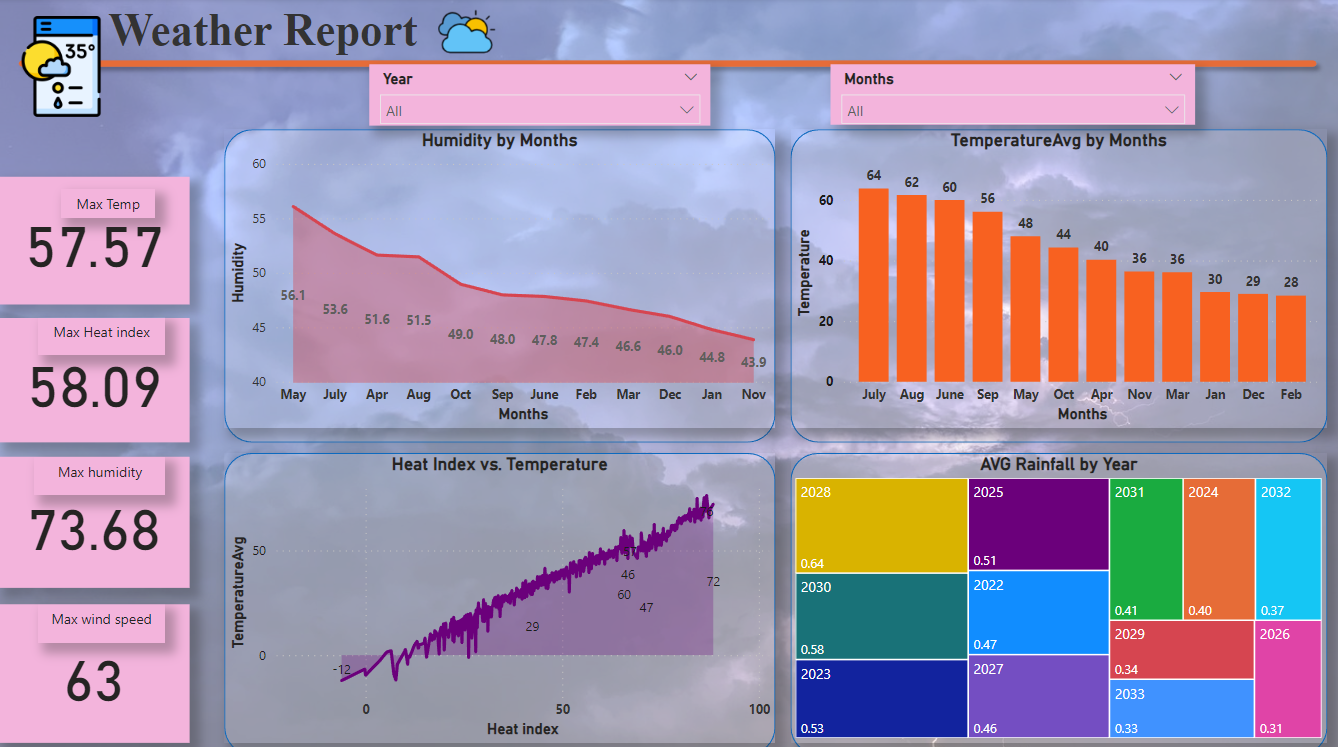

The page's visual inventory and layout, read from the dashboard file:
{"tool":"powerbi","page":{"name":"report 2","canvas":[1280,720],"ordinal":1},"visuals":[{"type":"shape","box":[0,0,1254.3,125],"z":0},{"type":"shape","box":[215.6,125,524.6,298],"z":1000},{"type":"shape","box":[754,125,510.9,298],"z":2000},{"type":"shape","box":[215.6,432.6,524.6,287],"z":3000},{"type":"shape","box":[754,432.6,510.9,287],"z":4000},{"type":"textbox","box":[100.3,1.4,336.5,82.4],"z":5000},{"type":"stackedAreaChart","fields":{"Category":["weatherdata .Months"],"Y":["weatherdata .Humidity"]},"box":[215.6,125,524.6,284.3],"z":6000},{"type":"clusteredColumnChart","title":"TemperatureAvg by Months","fields":{"Category":["weatherdata .Months"],"Y":["Avg(weatherdata . temperatureAvg)"]},"box":[754,125,510.9,284.3],"z":7000},{"type":"stackedAreaChart","title":" Heat Index vs. Temperature","fields":{"Category":["weatherdata .Maximum heat index "],"Y":["Avg(weatherdata . temperatureAvg)"]},"box":[215.6,432.6,524.6,276.1],"z":8000},{"type":"treemap","title":"AVG Rainfall  by Year","fields":{"Values":["weatherdata .Rainfall for month"],"Details":["weatherdata .Year"]},"box":[754,432.6,510.9,276.1],"z":9000},{"type":"image","box":[6.9,5.5,105.8,118.1],"z":12000},{"type":"image","box":[405.2,0,82.4,64.5],"z":13000},{"type":"card","title":"Year","fields":{"Values":["Avg(weatherdata .Maximum temperature )"]},"box":[0,171.4,182.1,121.4],"z":14000},{"type":"card","title":"Year","fields":{"Values":["Avg(weatherdata .Maximum heat index )"]},"box":[0,304.9,182.7,118.1],"z":15000},{"type":"card","title":"Year","fields":{"Values":["Avg(weatherdata .Maximum humidity )"]},"box":[0,436.7,182.7,125],"z":16000},{"type":"card","title":"Year","fields":{"Values":["Count(weatherdata .Maximum wind speed )"]},"box":[0,576.8,182.7,131.8],"z":17000},{"type":"textbox","box":[38.1,182.1,111.9,28.6],"z":18000},{"type":"textbox","box":[38.5,303.5,120.9,37.1],"z":19000},{"type":"textbox","box":[34.3,436.7,125,37.1],"z":20000},{"type":"textbox","box":[38.5,576.8,120.9,37.1],"z":21000},{"type":"shape","box":[286.8,64.3,303.5,60.7],"z":21001},{"type":"shape","box":[874.7,65.5,294,60.7],"z":21002},{"type":"slicer","fields":{"Values":["weatherdata .Months"]},"box":[301.1,65.5,289.2,59.5],"z":21003},{"type":"slicer","fields":{"Values":["weatherdata .Year"]},"box":[887.8,64.3,267.8,59.5],"z":21004}]}

Visuals, with their boxes in screenshot pixels (x1, y1, x2, y2), scaled from the page's 1280x720 canvas onto the 1338x747 screenshot:
shape: (0,0,1311,130)
shape: (225,130,774,439)
shape: (788,130,1322,439)
shape: (225,449,774,746)
shape: (788,449,1322,746)
textbox: (105,1,457,87)
stackedAreaChart - weatherdata .Months x weatherdata .Humidity: (225,130,774,425)
"TemperatureAvg by Months" clusteredColumnChart: (788,130,1322,425)
" Heat Index vs. Temperature" stackedAreaChart: (225,449,774,735)
"AVG Rainfall  by Year" treemap: (788,449,1322,735)
image: (7,6,118,128)
image: (424,0,510,67)
"Year" card: (0,178,190,304)
"Year" card: (0,316,191,439)
"Year" card: (0,453,191,583)
"Year" card: (0,598,191,735)
textbox: (40,189,157,219)
textbox: (40,315,167,353)
textbox: (36,453,167,492)
textbox: (40,598,167,637)
shape: (300,67,617,130)
shape: (914,68,1222,131)
slicer - weatherdata .Months: (315,68,617,130)
slicer - weatherdata .Year: (928,67,1208,128)
